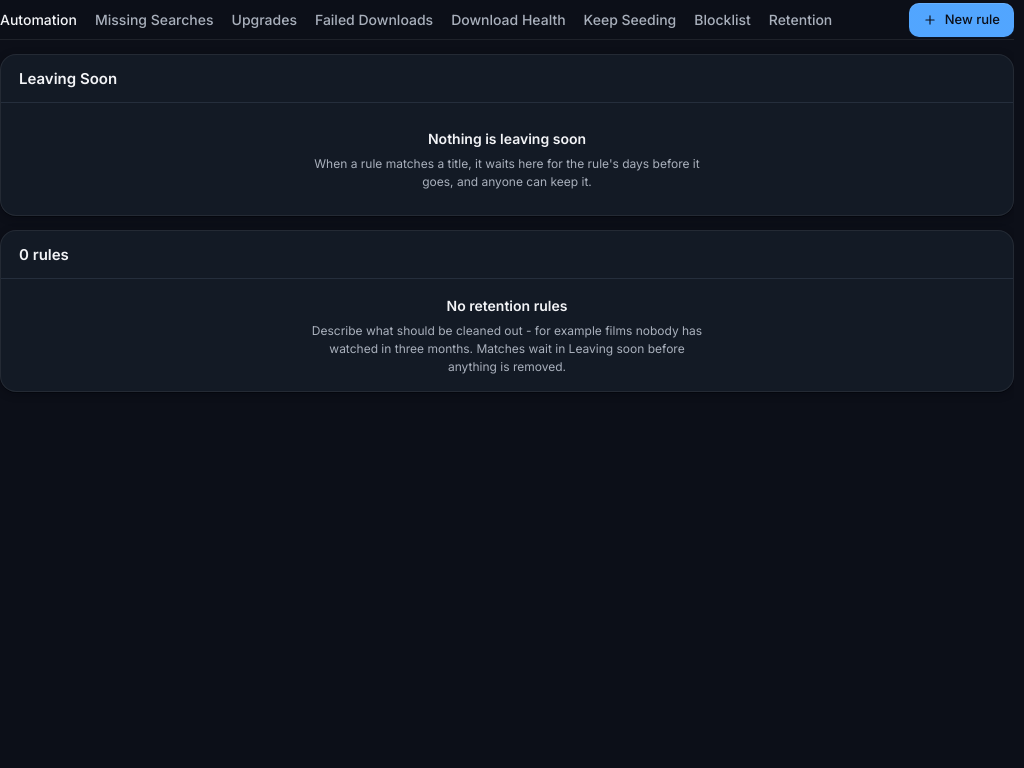
Test: the rule drawer › the trial says what would be selected in a warning list: problems, a server that cannot be asked, titles that could not be decided, and the titles on the server
Click the button "New rule". click: (961, 20)
box: [909,2,1014,36]
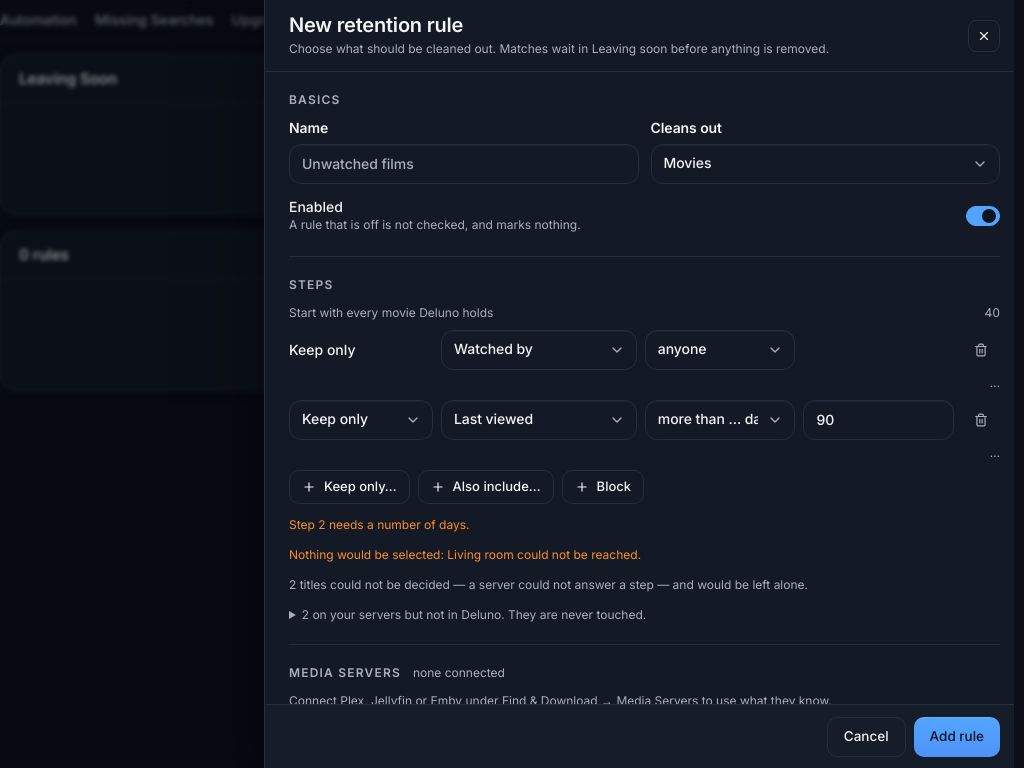
Check: the message reads "Step 2 needs a number of days.", box [289,517,470,532]
Check: the text "Nothing would be selected: Living room could not be reached." is shown, box [289,547,641,562]
Check: the text "2 titles could not be decided — a server could not answer a step — and would be left alone." is shown, box [289,577,808,592]
